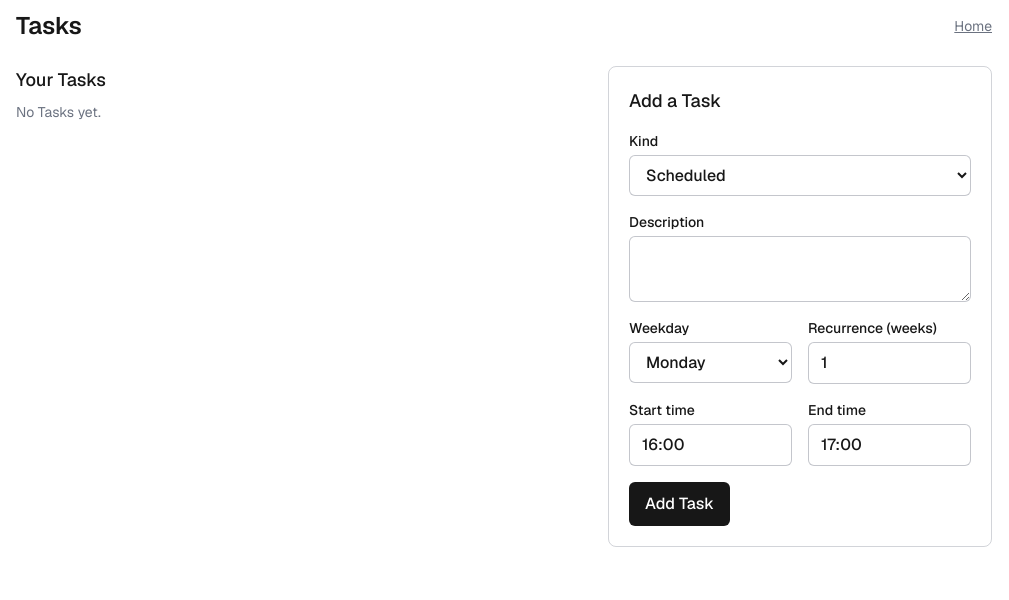
it: Tasks page › submits the add form to the create endpoint and confirms
In the text box labelled "Description": (800, 269) [629,236,971,302], type "Morning run"
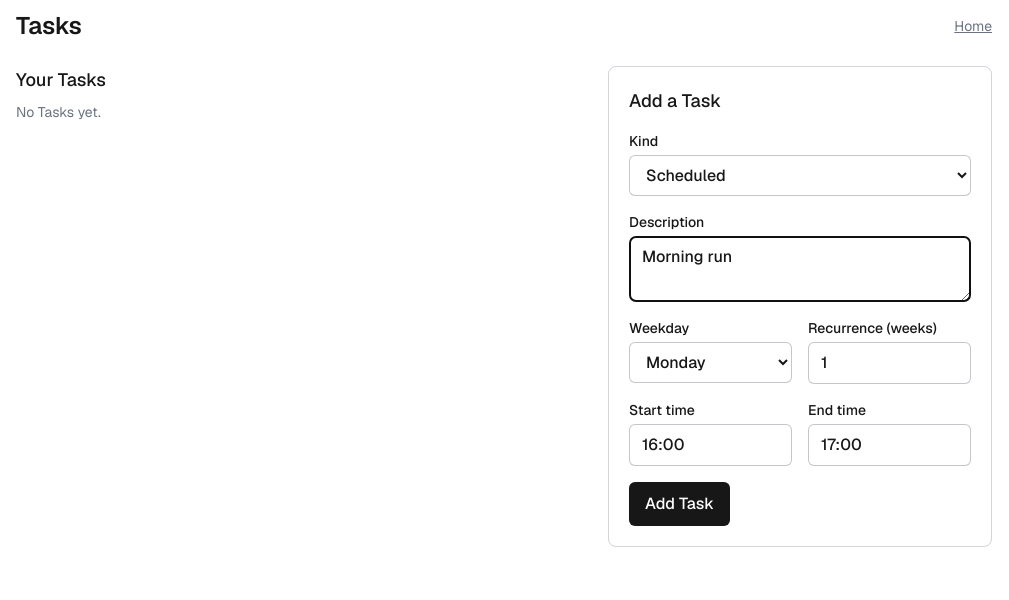
Click the button "Add Task": (680, 504) [629,482,730,526]
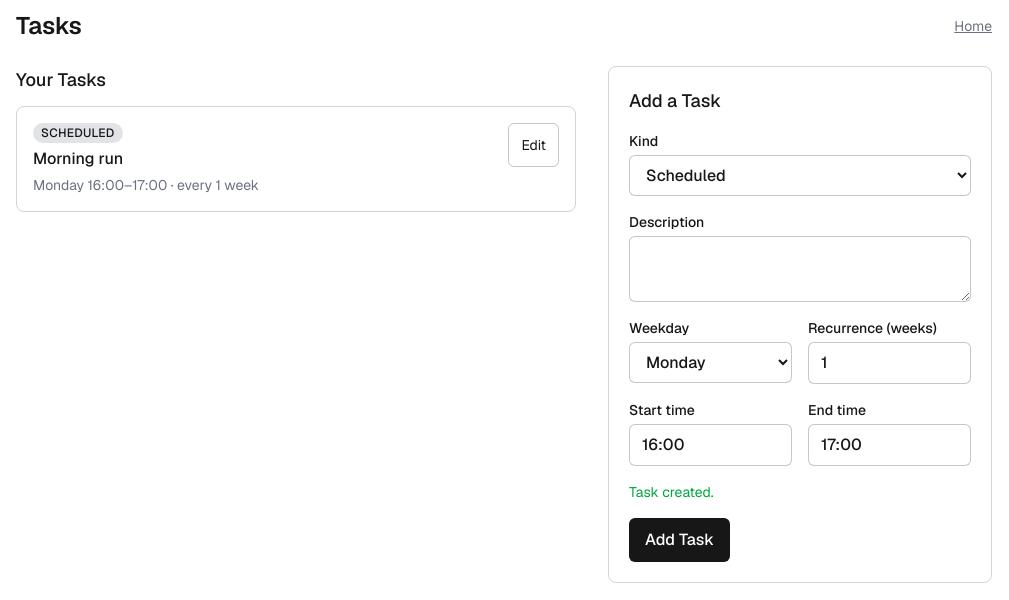
Check: the text "Task created." is shown, box [629,483,714,501]
Check: the text "Morning run" is shown, box [33,148,123,169]
